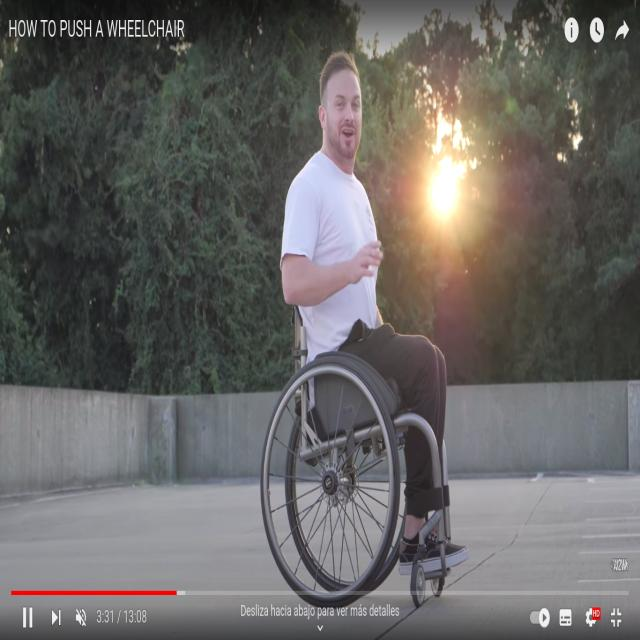wheelchairs: (255, 357, 458, 588)
